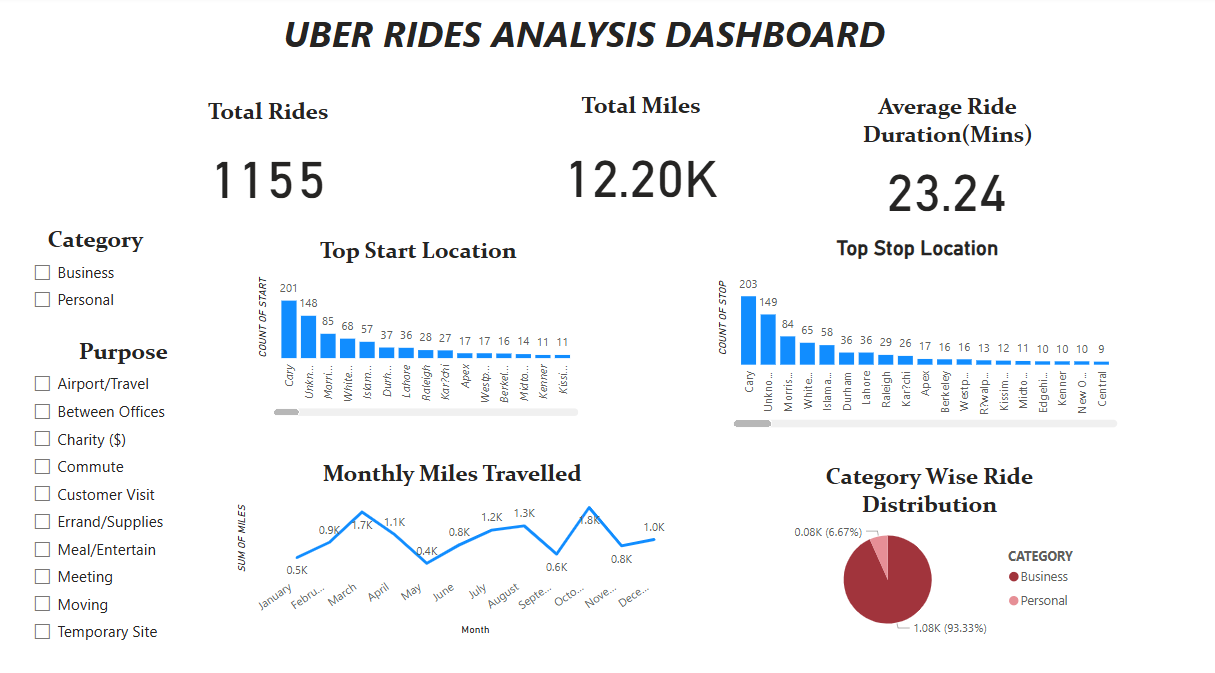

This screenshot's page, from the dashboard's own definition file:
{"tool":"powerbi","page":{"name":"Page 1","canvas":[1280,720],"ordinal":0},"visuals":[{"type":"card","title":"Total Rides","fields":{"Values":["CountNonNull(Uber_Drives_Dashboard_Ready (2).START_DATE)"]},"box":[177.1,107.4,210.9,131.3],"z":0},{"type":"card","title":"Total Miles","fields":{"Values":["Sum(Uber_Drives_Dashboard_Ready (2).MILES)"]},"box":[569,101.5,212.9,141.3],"z":1000},{"type":"card","title":"Average Ride Duration(Mins)","fields":{"Values":["Avg(Uber_Drives_Dashboard_Ready (2).Ride_Duration_Minutes)"]},"box":[893.3,101.5,208.9,141.3],"z":2000},{"type":"columnChart","title":"Top Start Location","fields":{"Category":["Uber_Drives_Dashboard_Ready (2).START"],"Y":["CountNonNull(Uber_Drives_Dashboard_Ready (2).START)"]},"box":[266.6,254.7,348.2,195],"z":4000},{"type":"columnChart","title":"Top Stop Location","fields":{"Category":["Uber_Drives_Dashboard_Ready (2).STOP"],"Y":["CountNonNull(Uber_Drives_Dashboard_Ready (2).STOP)"]},"box":[750,254.7,431.7,206.9],"z":5000},{"type":"pieChart","title":"Category Wise Ride Distribution","fields":{"Y":["CountNonNull(Uber_Drives_Dashboard_Ready (2).CATEGORY)"],"Category":["Uber_Drives_Dashboard_Ready (2).CATEGORY"]},"box":[803.7,491.4,350.1,189],"z":6000},{"type":"lineChart","title":"Monthly Miles Travelled","fields":{"Y":["Sum(Uber_Drives_Dashboard_Ready (2).MILES)"],"Category":["Uber_Drives_Dashboard_Ready (2).Date.Variation.Date Hierarchy.Month"]},"box":[244.7,489.4,463.5,191],"z":7000},{"type":"slicer","title":"Category","fields":{"Values":["Uber_Drives_Dashboard_Ready (2).CATEGORY"]},"box":[23.2,242.9,153.6,116.1],"z":8000},{"type":"slicer","title":"Purpose","fields":{"Values":["Uber_Drives_Dashboard_Ready (2).PURPOSE"]},"box":[23.2,360.7,212.5,337.5],"z":9000},{"type":"textbox","box":[266.1,0,698.4,101.6],"z":11000}]}

Visuals, with their boxes in screenshot pixels (x1, y1, x2, y2), scaled from the page's 1280x720 canvas onto the 1215x673 screenshot:
"Total Rides" card: l=168, t=100, r=368, b=223
"Total Miles" card: l=540, t=95, r=742, b=227
"Average Ride Duration(Mins)" card: l=848, t=95, r=1046, b=227
"Top Start Location" columnChart: l=253, t=238, r=584, b=420
"Top Stop Location" columnChart: l=712, t=238, r=1122, b=431
"Category Wise Ride Distribution" pieChart: l=763, t=459, r=1095, b=636
"Monthly Miles Travelled" lineChart: l=232, t=457, r=672, b=636
"Category" slicer: l=22, t=227, r=168, b=336
"Purpose" slicer: l=22, t=337, r=224, b=653
textbox: l=253, t=0, r=916, b=95
